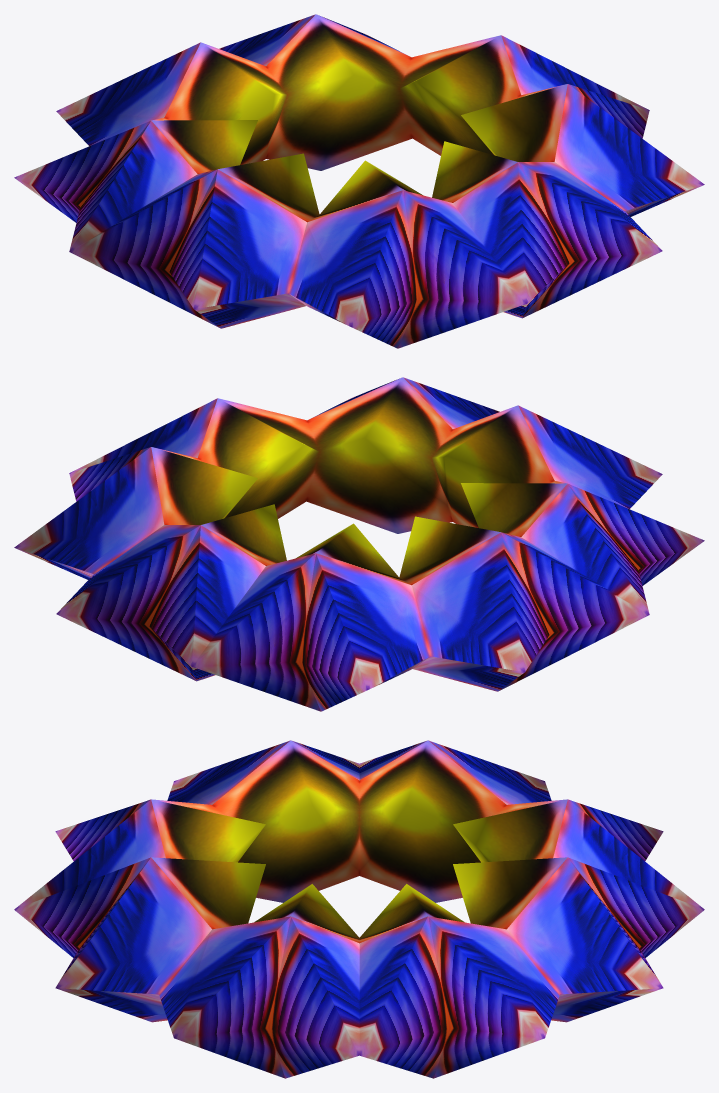
The model's file is ufo-22.fbx.
The picture shows the model from 3 angles, top to bottom: view 1: azimuth 30°, elevation 25°; view 2: azimuth 150°, elevation 25°; view 3: azimuth 270°, elevation 25°; orthographic projection. The views are drawn at different scales.
Visible parts, largest first — view 1: ufo-22; view 2: ufo-22; view 3: ufo-22.
Part boxes in pixels (box(x1,y1,x2,y2)): ufo-22: box(14, 14, 704, 348); ufo-22: box(14, 377, 704, 711); ufo-22: box(14, 740, 704, 1078).
Bounding box in the file's own units: 48.4 × 12.57 × 48.4.
